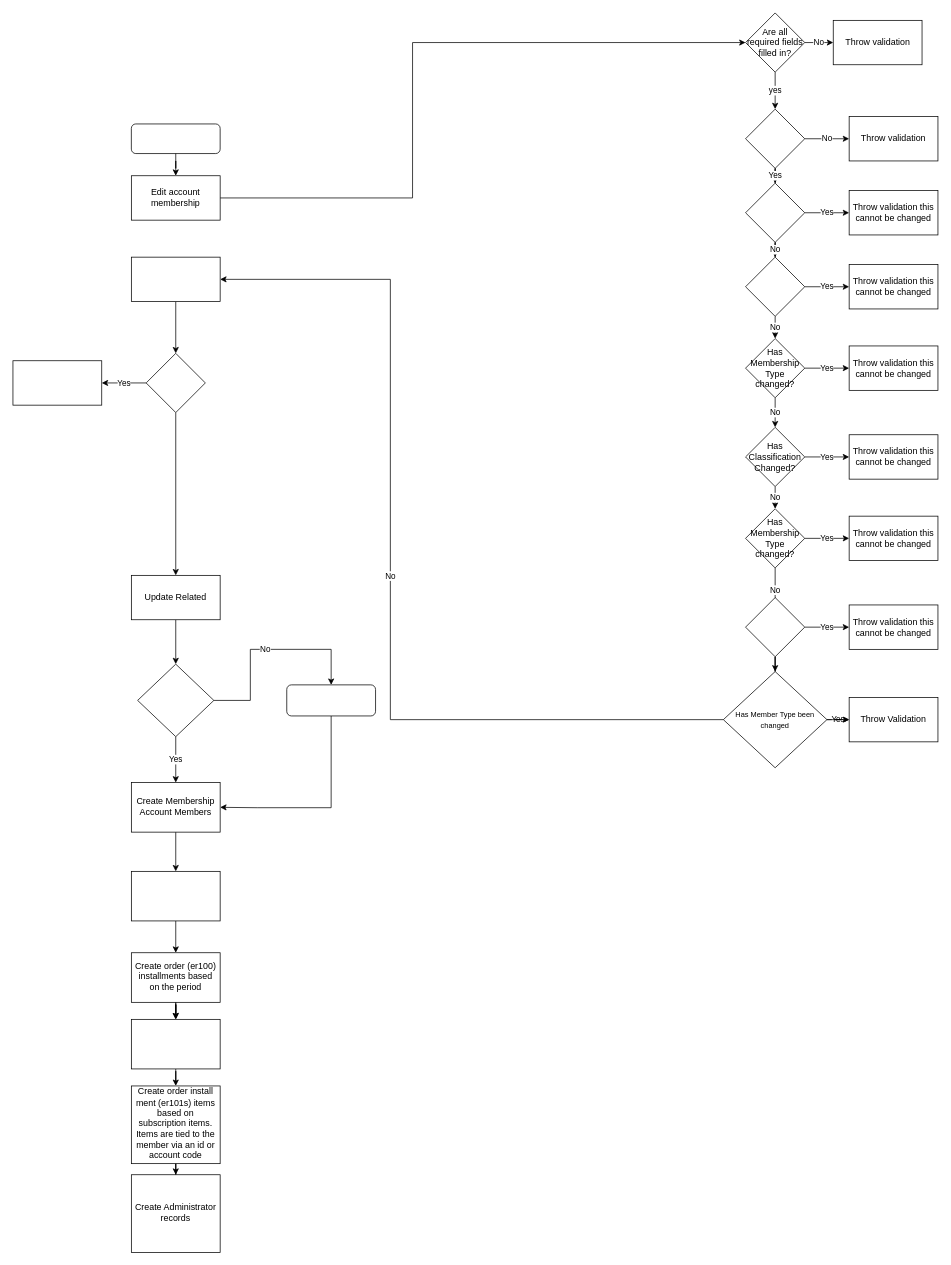
The diagram is 951 pixels wide and 1265 high, and some of its shapes have lost their labels. The shapes that lost their labels are listed below. From the top down, each one's centre as x and y in pixels, then its label:
At pixel 175 138: "Edit Individual Membership".
At pixel 775 138: "Is membership start date within the period".
At pixel 775 212: "Has Installment changed".
At pixel 175 279: "Process".
At pixel 775 286: "Has Period Changed".
At pixel 775 627: "Has Membership Start changed?".
At pixel 175 700: "Is there an organization level membership?".
At pixel 331 700: "Create Organization Level Membership".
At pixel 175 896: "Create Subscription Items for membership".
At pixel 175 1044: "Create order members based account members".
